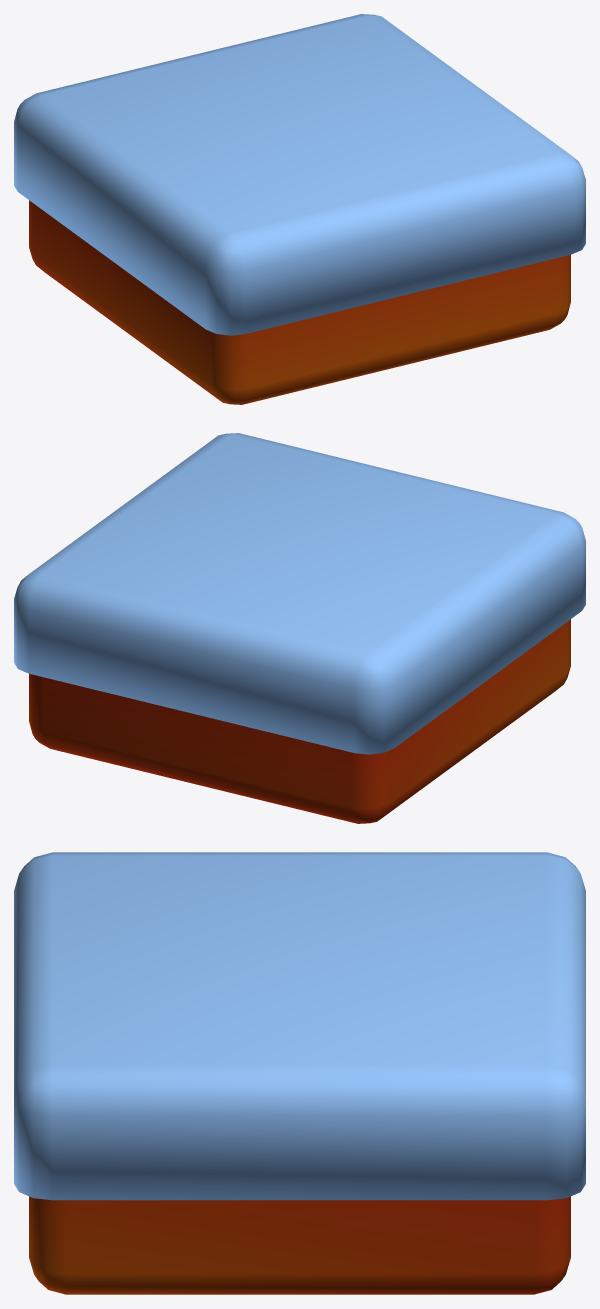
Rendered from trap_platformblue.glb.
3 views of the same model, one above another, from view 1: azimuth 30°, elevation 25°; view 2: azimuth 150°, elevation 25°; view 3: azimuth 270°, elevation 25° (orthographic). The views are drawn at different scales.
Parts seen in each view (by area): view 1: Cube.002_visual; view 2: Cube.002_visual; view 3: Cube.002_visual.
Boxes of the visible parts, left/top/right/bottom form: Cube.002_visual: left=14, top=14, right=585, bottom=404; Cube.002_visual: left=14, top=433, right=585, bottom=823; Cube.002_visual: left=14, top=852, right=585, bottom=1294.
Size of what is drawn, in the model's own units: 1.42 by 0.634 by 1.42.
Materials: 1 (1 with a texture image).
